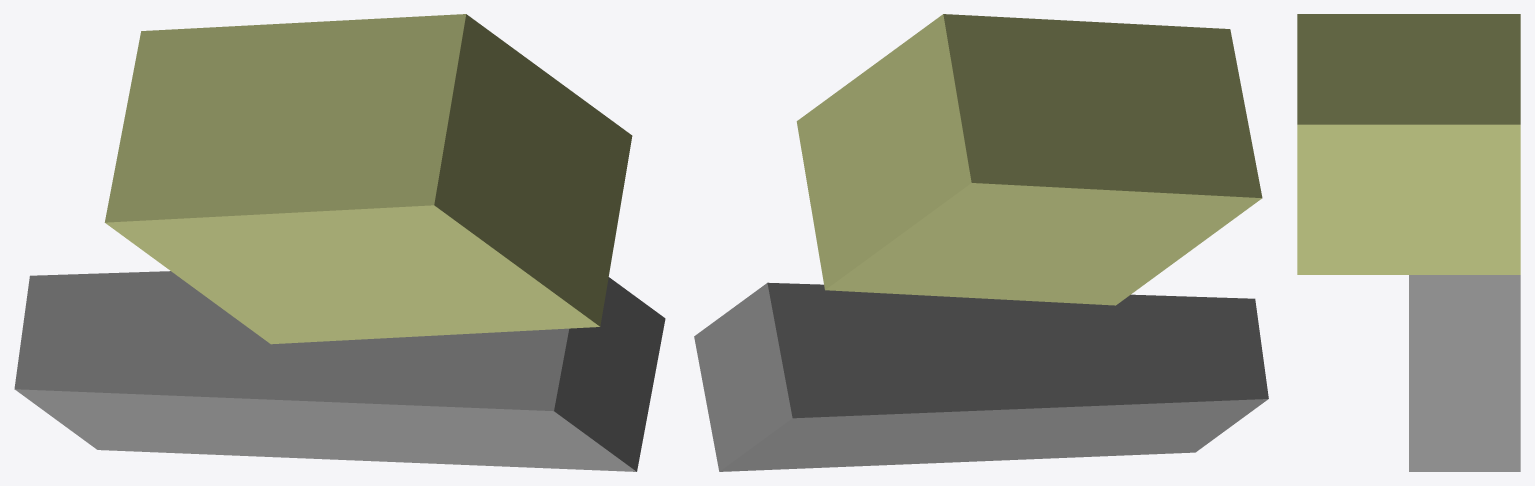
3 renders of one model, left to right at view 1: azimuth 30°, elevation 25°; view 2: azimuth 150°, elevation 25°; view 3: azimuth 270°, elevation 25°, orthographic. The views are drawn at different scales.
Parts seen in each view (by area): view 1: 0_1_0_0_1_0_3_0_1_0_1; view 2: 0_1_0_0_1_0_3_0_1_0_1; view 3: 0_1_0_0_1_0_3_0_1_0_1.
Part boxes in pixels (<box>): 0_1_0_0_1_0_3_0_1_0_1: <box>14,14,665,471</box>; 0_1_0_0_1_0_3_0_1_0_1: <box>694,14,1268,471</box>; 0_1_0_0_1_0_3_0_1_0_1: <box>1297,14,1520,471</box>.
Size of the model in its own units: 11.85 by 9.58 by 6.
